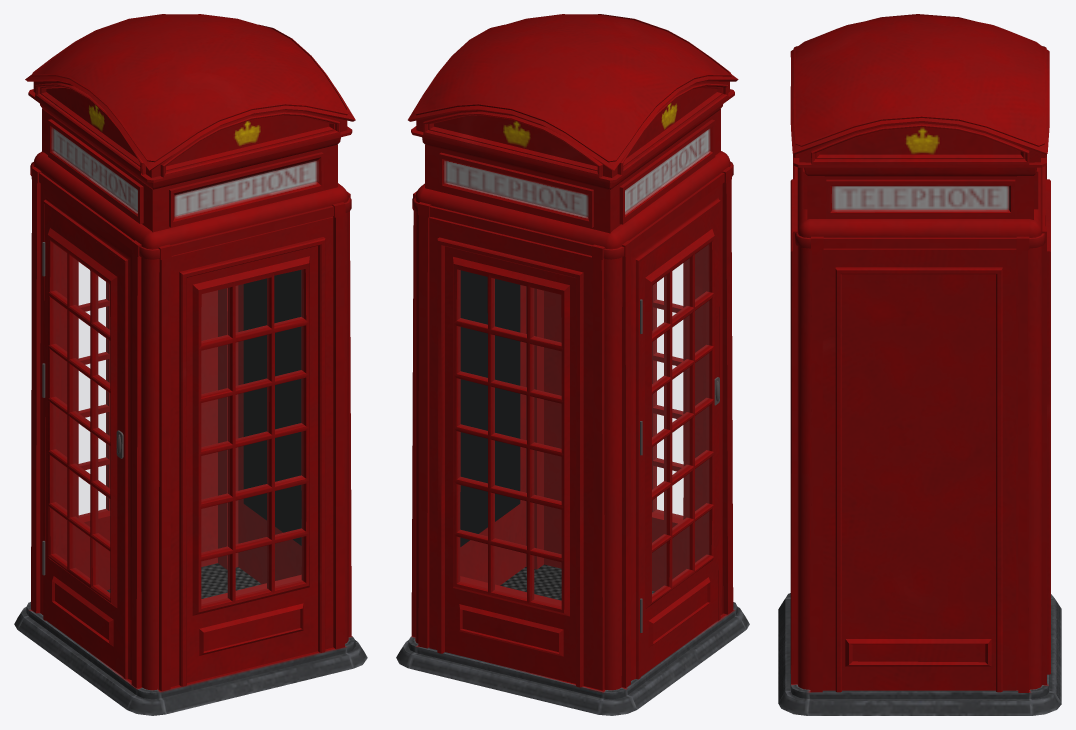
The model's file is london_red_phone_box.glb.
The picture shows the model from 3 angles, left to right: view 1: azimuth 30°, elevation 25°; view 2: azimuth 150°, elevation 25°; view 3: azimuth 270°, elevation 25°; orthographic projection. The views are drawn at different scales.
Parts seen in each view (by area): view 1: FrontDoor_Low, Krisha_Low, Body_Low, Leftdoor_Low, Cube_Low, RightDoor_Low, Text_Low, BackDoor_Low, Rama_Low, LP_WIDOW; view 2: BackDoor_Low, Krisha_Low, Body_Low, Leftdoor_Low, Cube_Low, RightDoor_Low, Text_Low, FrontDoor_Low, Rama_Low, LP_WIDOW; view 3: RightDoor_Low, Krisha_Low, Body_Low, Cube_Low, Text_Low, BackDoor_Low, FrontDoor_Low.
Part boxes in pixels (x1,y1,x2,y2): FrontDoor_Low: [170, 217, 333, 686]; Krisha_Low: [25, 14, 355, 189]; Body_Low: [14, 151, 367, 715]; Leftdoor_Low: [45, 204, 124, 676]; Cube_Low: [30, 162, 351, 691]; RightDoor_Low: [238, 270, 301, 584]; Text_Low: [42, 108, 337, 232]; BackDoor_Low: [61, 249, 217, 590]; Rama_Low: [41, 184, 132, 679]; LP_WIDOW: [79, 263, 107, 516]; BackDoor_Low: [429, 217, 593, 688]; Krisha_Low: [408, 14, 738, 189]; Body_Low: [396, 151, 749, 715]; Leftdoor_Low: [640, 204, 719, 676]; Cube_Low: [411, 161, 733, 690]; RightDoor_Low: [460, 270, 525, 585]; Text_Low: [425, 109, 720, 233]; FrontDoor_Low: [544, 249, 702, 591]; Rama_Low: [631, 184, 722, 680]; LP_WIDOW: [653, 264, 683, 518]; RightDoor_Low: [822, 248, 1016, 692]; Krisha_Low: [790, 14, 1049, 176]; Body_Low: [778, 167, 1061, 715]; Cube_Low: [791, 154, 1046, 692]; Text_Low: [803, 167, 1038, 219]; BackDoor_Low: [1045, 179, 1050, 674]; FrontDoor_Low: [790, 179, 794, 673].
Bounding box in the file's own units: 1.08 × 2.6 × 1.09.
Materials: 2 (1 with a texture image).
